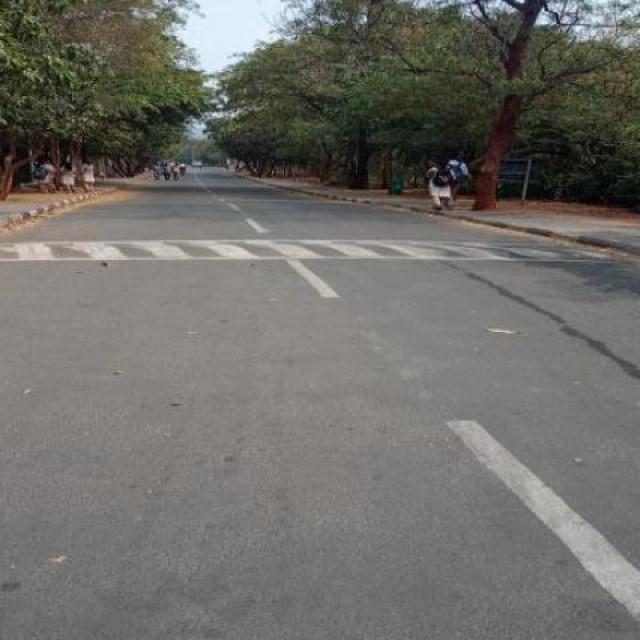Speed Bump: (0, 238, 639, 268)
